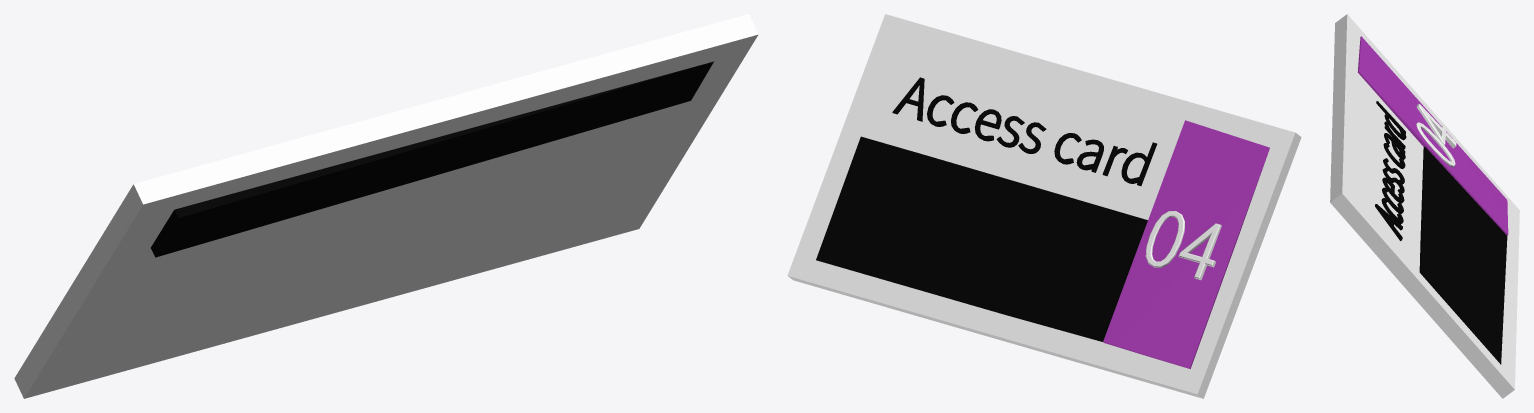
File: Keycard Access L4.fbx
3 renders of one model, left to right at view 1: azimuth 30°, elevation 25°; view 2: azimuth 150°, elevation 25°; view 3: azimuth 270°, elevation 25°, orthographic. The views are drawn at different scales.
Parts seen in each view (by area): view 1: a8fcecfa-184d-4dd5-a912-c0a96f4e93ab; view 2: a8fcecfa-184d-4dd5-a912-c0a96f4e93ab; view 3: a8fcecfa-184d-4dd5-a912-c0a96f4e93ab.
Boxes of the visible parts, <box> form: a8fcecfa-184d-4dd5-a912-c0a96f4e93ab: <box>14,14,758,398</box>; a8fcecfa-184d-4dd5-a912-c0a96f4e93ab: <box>787,14,1301,398</box>; a8fcecfa-184d-4dd5-a912-c0a96f4e93ab: <box>1330,14,1519,398</box>.
Bounding box in the file's own units: 18236 × 9250 × 7345.
